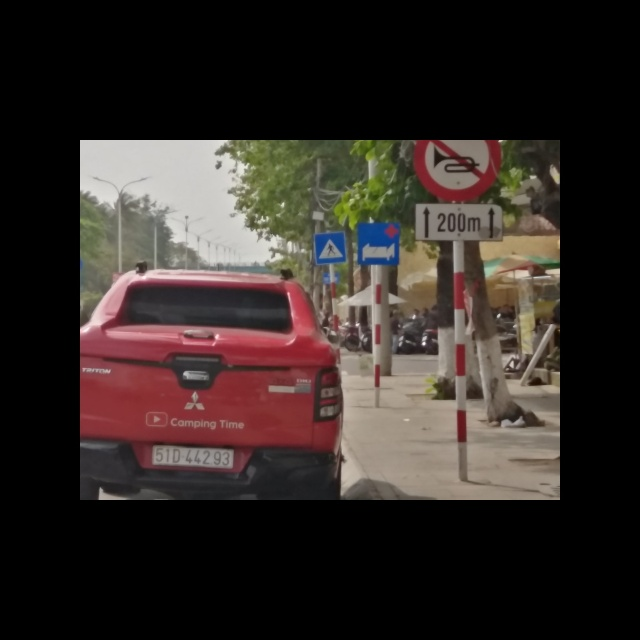Bệnh viện: (359, 221, 400, 266)
Cấm bấm còi: (415, 140, 502, 207)
Đường dành cho người đi bộ: (312, 232, 348, 265)
